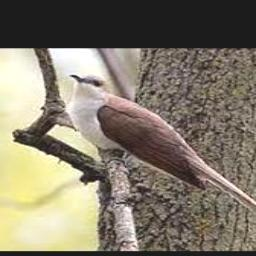Cuckoo: (70, 73, 256, 236)
